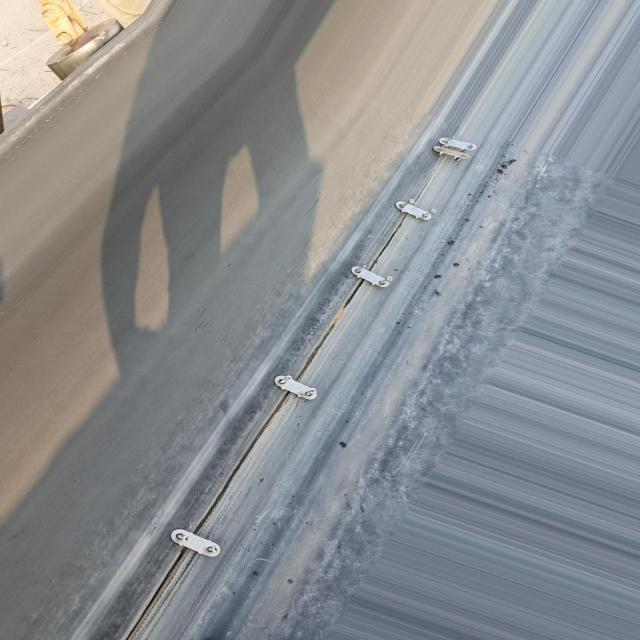Roller: (50, 15, 124, 81)
patch work: (121, 120, 482, 638)
